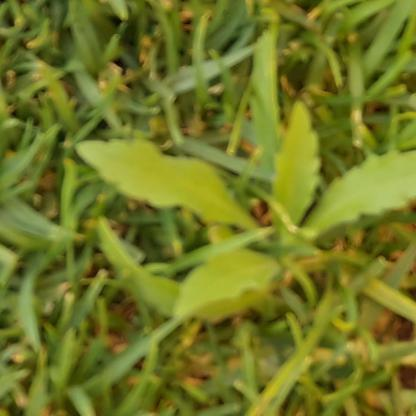Weeds: (75, 101, 415, 320)
